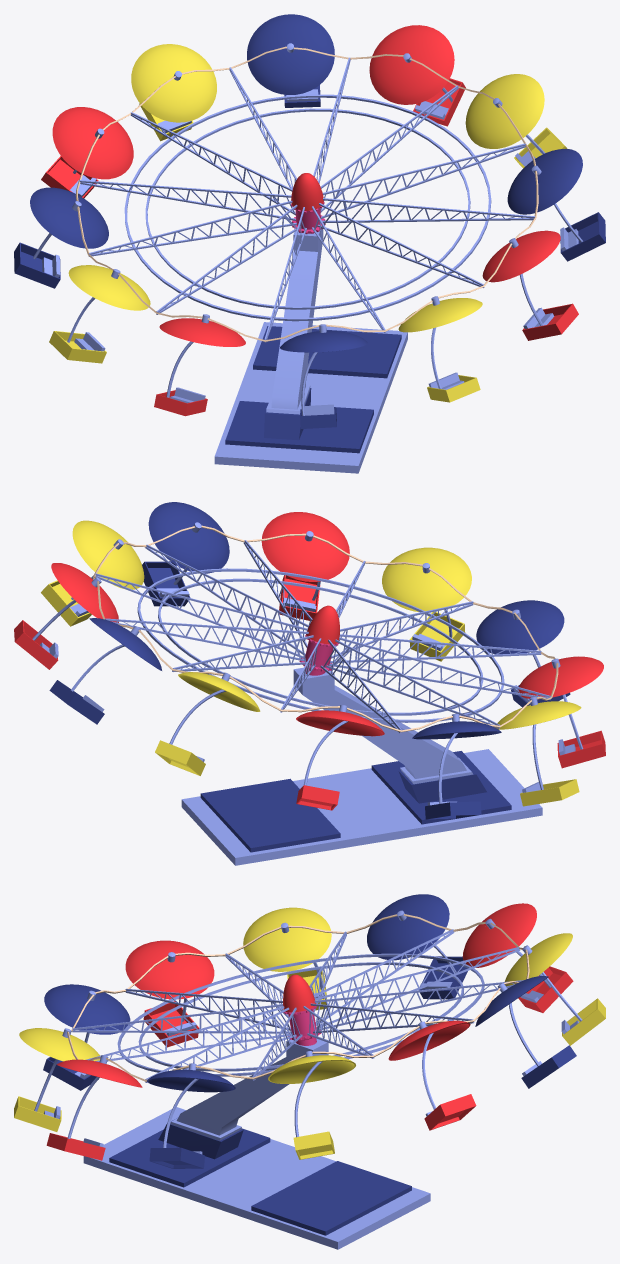
Rendered from sillas.glb.
3 views of the same model, one above another, from view 1: azimuth 30°, elevation 25°; view 2: azimuth 150°, elevation 25°; view 3: azimuth 270°, elevation 25° (orthographic). The views are drawn at different scales.
Visible parts, largest first — view 1: karusel, karusel.332; view 2: karusel, karusel.332; view 3: karusel, karusel.332.
Part boxes in pixels (x1,y1,x2,y2): karusel: (14,14,605,428); karusel.332: (214,229,407,473); karusel: (14,502,605,819); karusel.332: (181,667,542,865); karusel: (14,894,605,1168); karusel.332: (83,1038,430,1249).
Bounding box in the file's own units: 1.12 × 0.5403 × 1.12.
